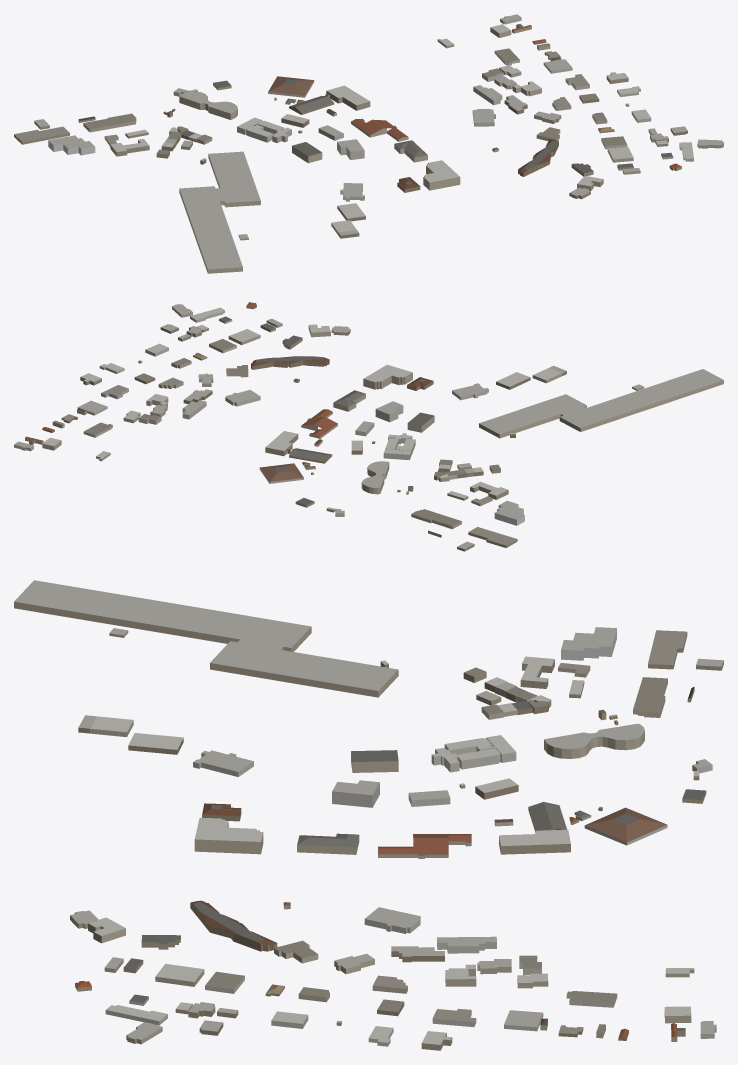
3 renders of one model, top to bottom at view 1: azimuth 30°, elevation 25°; view 2: azimuth 150°, elevation 25°; view 3: azimuth 270°, elevation 25°, orthographic. The views are drawn at different scales.
Visible parts, largest first — view 1: buildings_r3_c7_lod1; view 2: buildings_r3_c7_lod1; view 3: buildings_r3_c7_lod1.
Boxes of the visible parts, box(x1,y1,x2,y2) form: buildings_r3_c7_lod1: box(14, 14, 723, 273); buildings_r3_c7_lod1: box(14, 302, 723, 551); buildings_r3_c7_lod1: box(14, 580, 723, 1050).
Bounding box in the file's own units: 1220 × 87.38 × 886.
